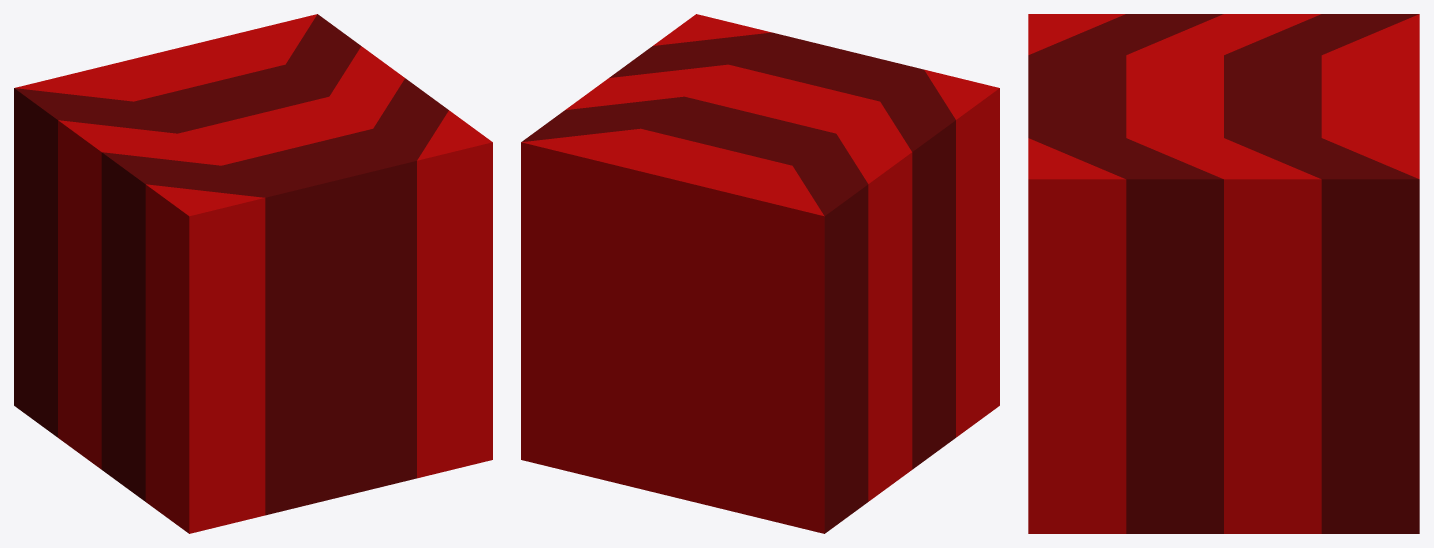
File: beetroot04.gltf
3 renders of one model, left to right at view 1: azimuth 30°, elevation 25°; view 2: azimuth 150°, elevation 25°; view 3: azimuth 270°, elevation 25°, orthographic. The views are drawn at different scales.
Parts seen in each view (by area): view 1: Cube; view 2: Cube; view 3: Cube.
Boxes of the visible parts, x1,y1,x2,y2 form: Cube: [14, 14, 492, 533]; Cube: [521, 14, 999, 533]; Cube: [1028, 14, 1419, 533].
Bounding box in the file's own units: 0.0129 × 0.0129 × 0.0129.
1 material, 1 textured.
